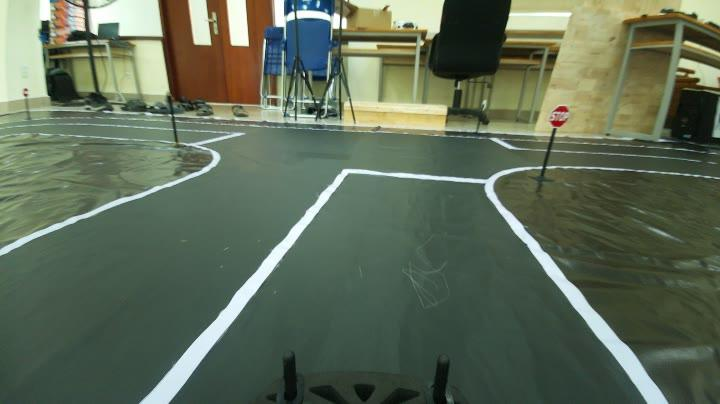stop: (547, 104, 573, 129)
